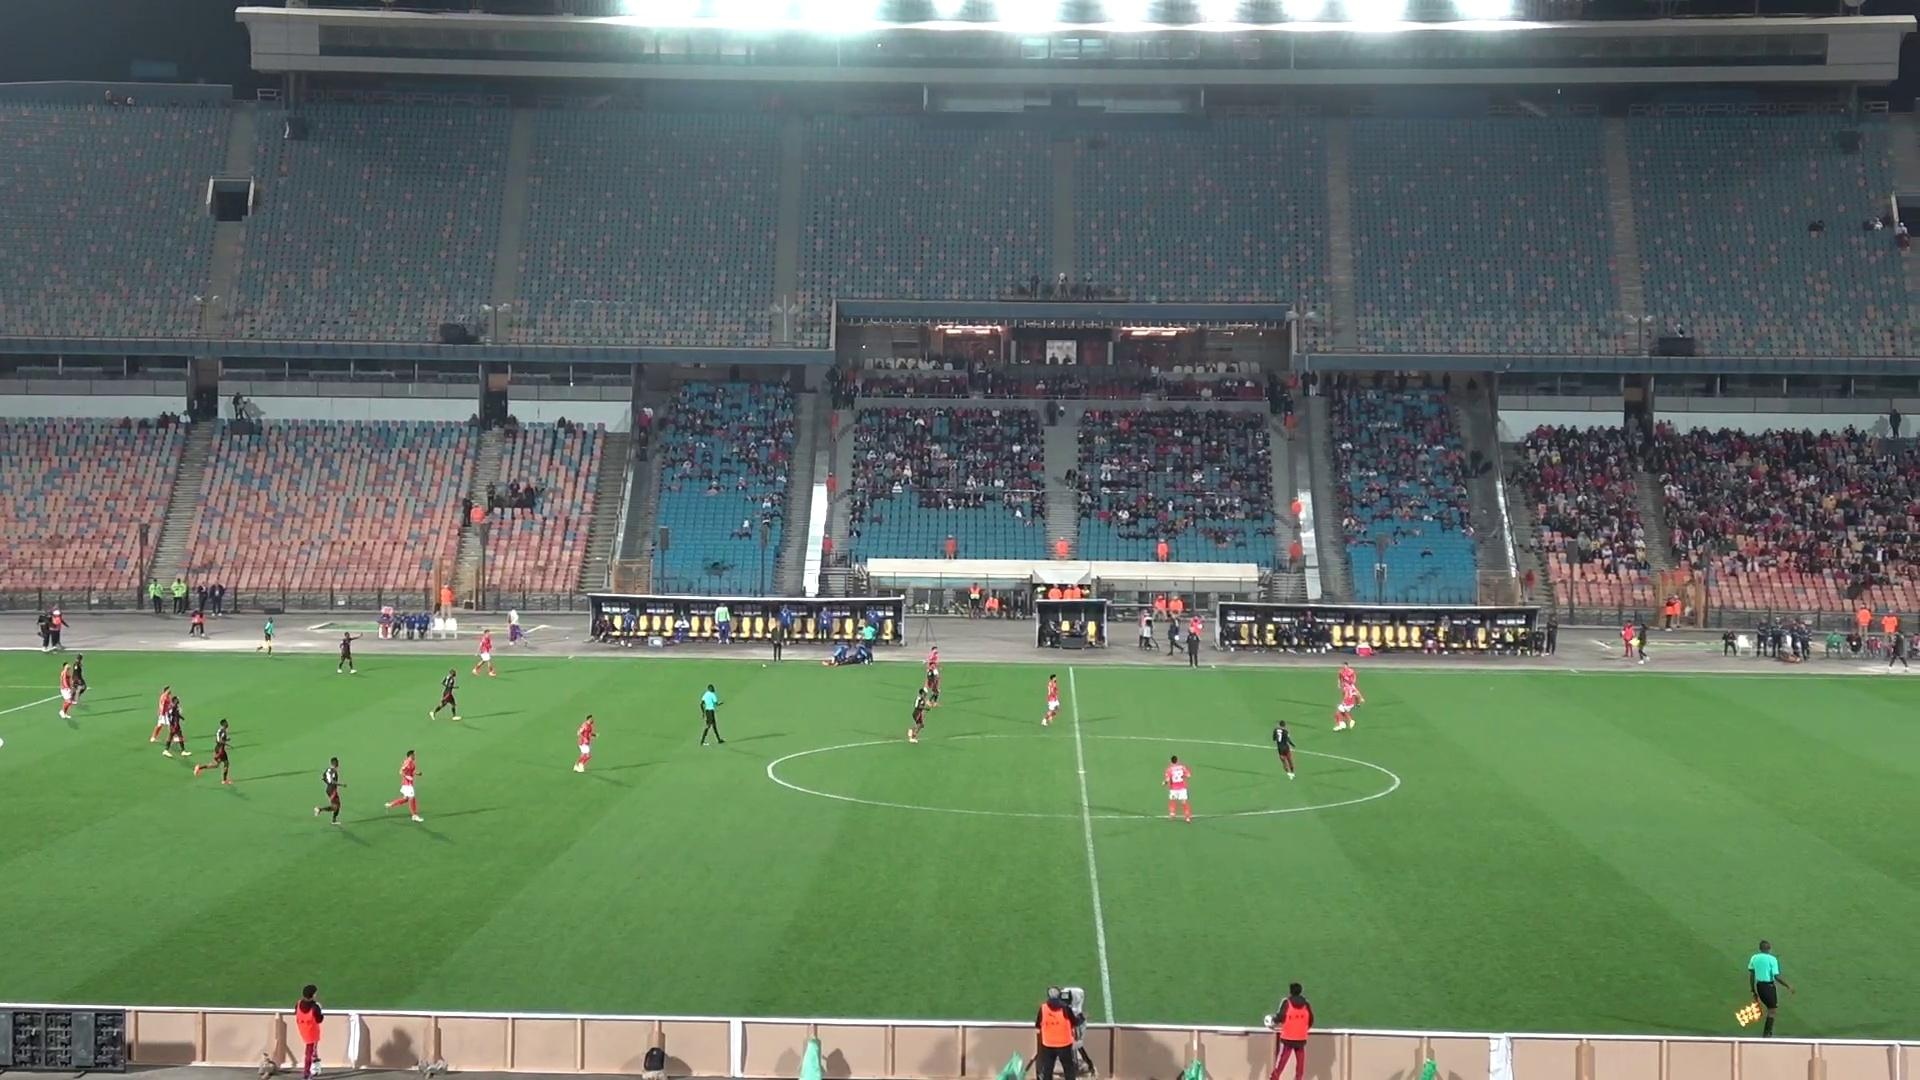Ball: (1335, 708, 1353, 731)
Refree: (1734, 942, 1793, 1036), (699, 684, 725, 744), (255, 609, 277, 655), (855, 617, 876, 665)
Team1: (385, 749, 421, 822), (149, 686, 179, 753), (1333, 663, 1364, 731), (1163, 756, 1193, 822), (58, 655, 87, 719), (572, 713, 596, 773), (1040, 674, 1063, 727), (471, 630, 496, 676), (924, 644, 942, 676)
Team2: (193, 719, 233, 785), (160, 687, 191, 757), (314, 757, 342, 823), (907, 686, 939, 742), (429, 669, 460, 720), (1271, 721, 1296, 779), (916, 649, 940, 707), (336, 632, 355, 673)
